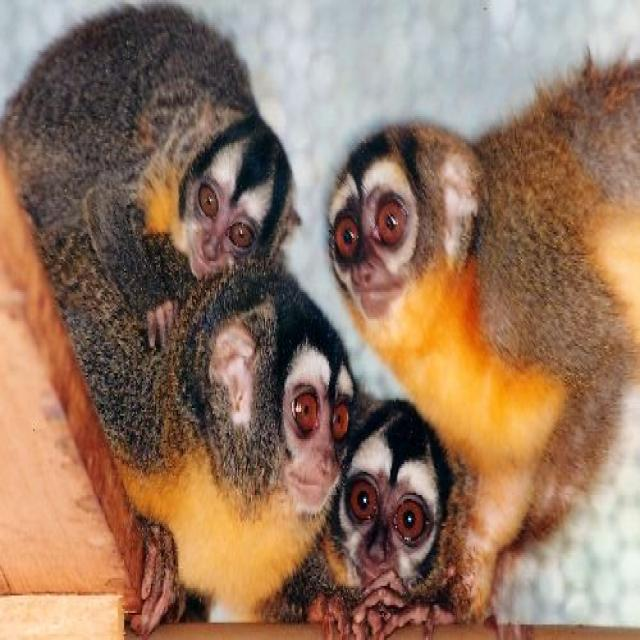not_pig: (322, 44, 638, 628), (59, 259, 362, 640), (0, 0, 301, 354), (258, 406, 465, 635)
